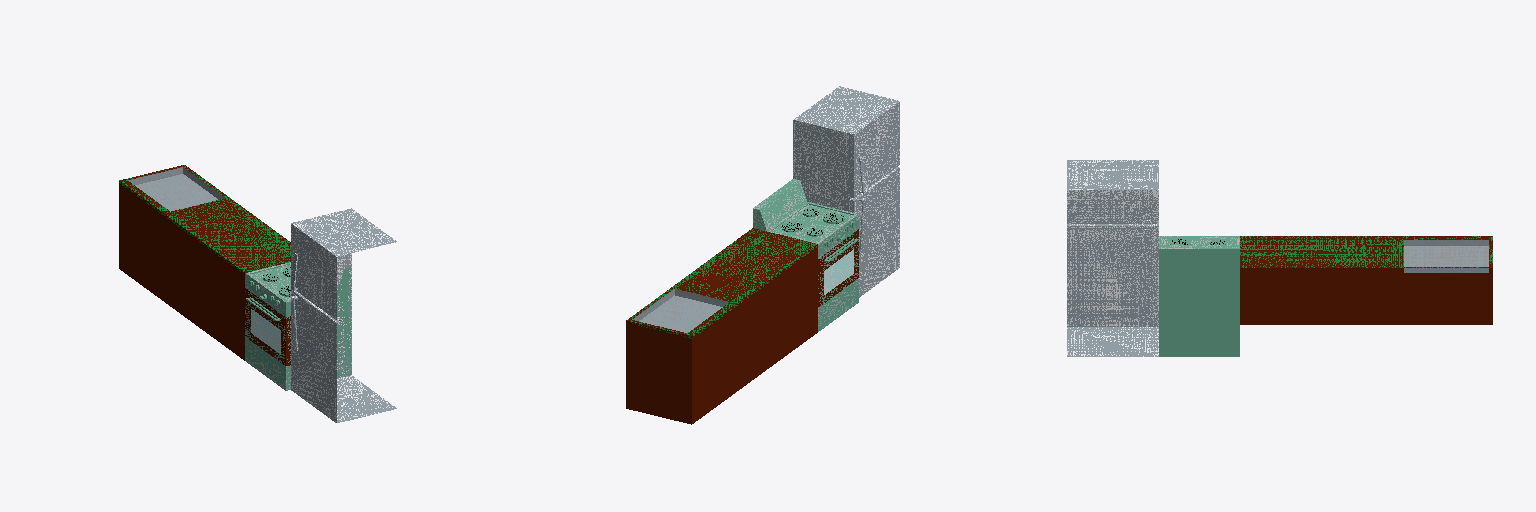
The model's file is SketchUp.009_ID1895.obj.
The picture shows the model from 3 angles: view 1: azimuth 30°, elevation 25°; view 2: azimuth 150°, elevation 25°; view 3: azimuth 270°, elevation 25°; orthographic projection.
Visible parts, largest first — view 1: SketchUp.009_ID1895; view 2: SketchUp.009_ID1895; view 3: SketchUp.009_ID1895.
Boxes of the visible parts, <box> form: SketchUp.009_ID1895: <box>119,165,396,422</box>; SketchUp.009_ID1895: <box>626,86,899,424</box>; SketchUp.009_ID1895: <box>1067,160,1492,356</box>.
Bounding box in the file's own units: 0.762 × 1.73 × 4.